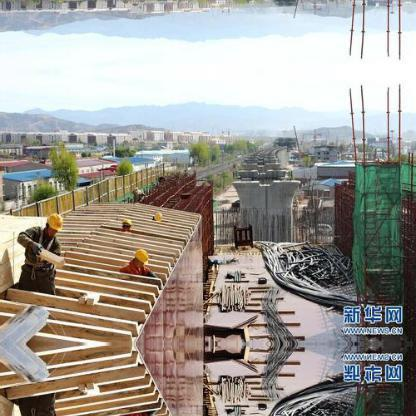helmet: (44, 209, 65, 234), (131, 243, 150, 266), (151, 209, 164, 226), (120, 216, 133, 231)
